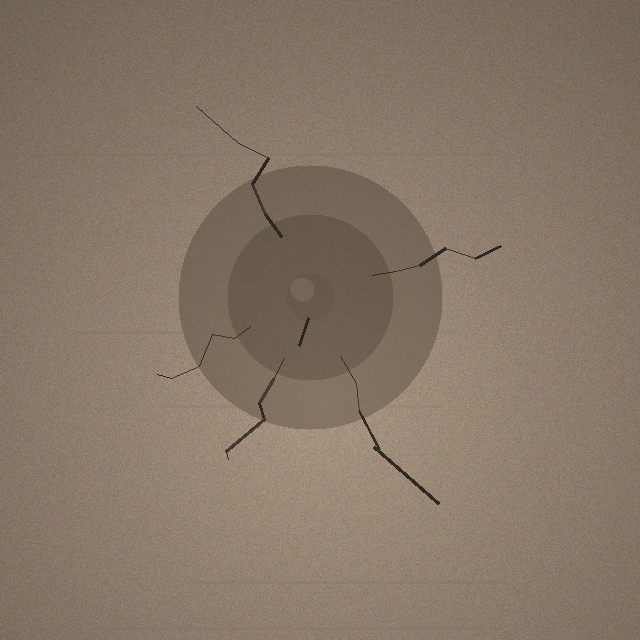crack: (178, 165, 442, 429)
